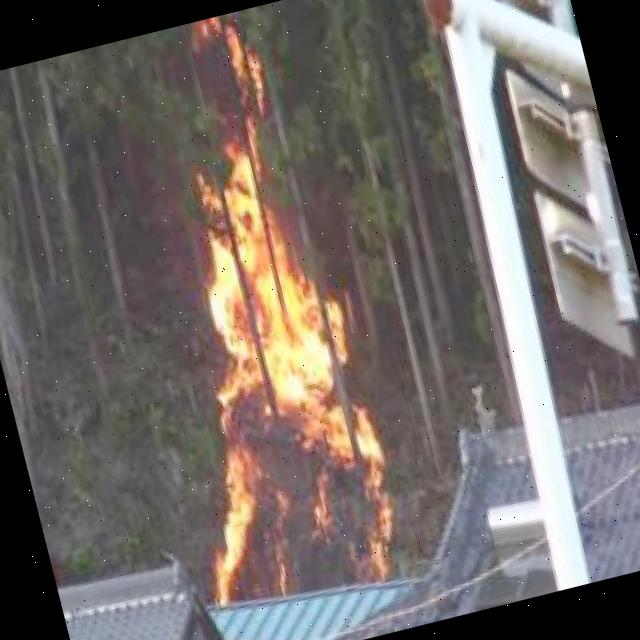fire: (87, 13, 408, 619)
